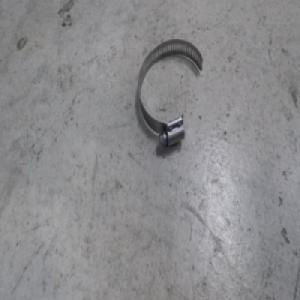AdjustableClamp: (137, 47, 205, 155)
